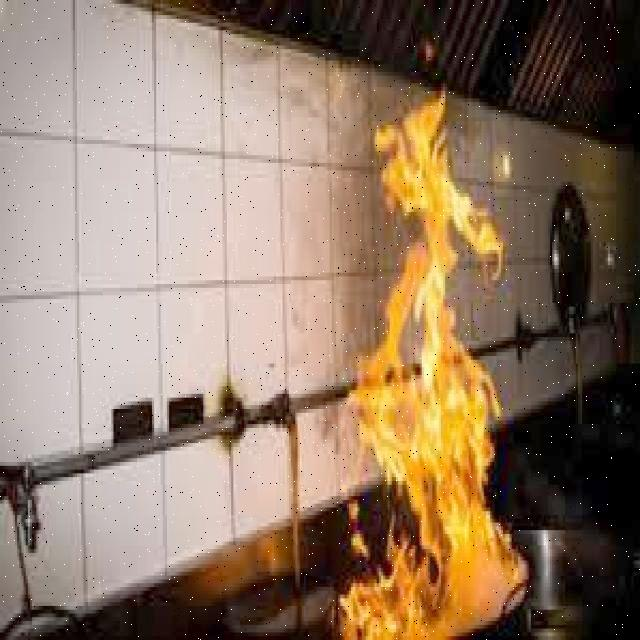fire: (346, 86, 530, 640)
